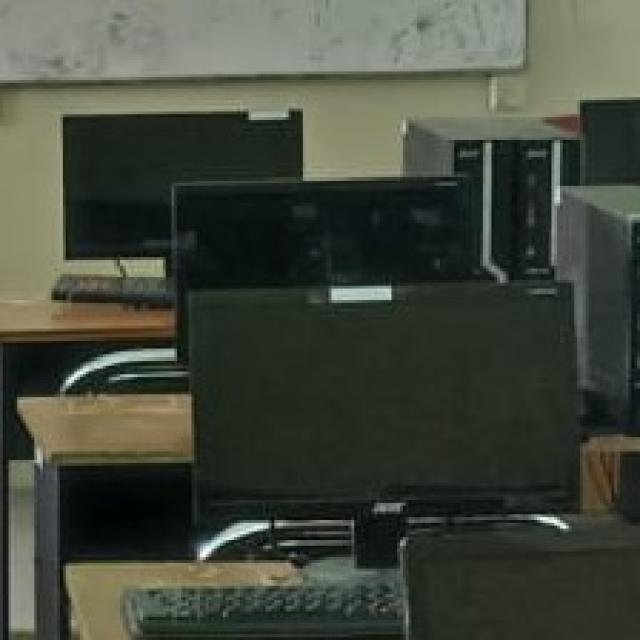offscreen: (189, 284, 576, 506), (66, 113, 301, 258), (179, 179, 483, 291), (409, 515, 640, 640)
